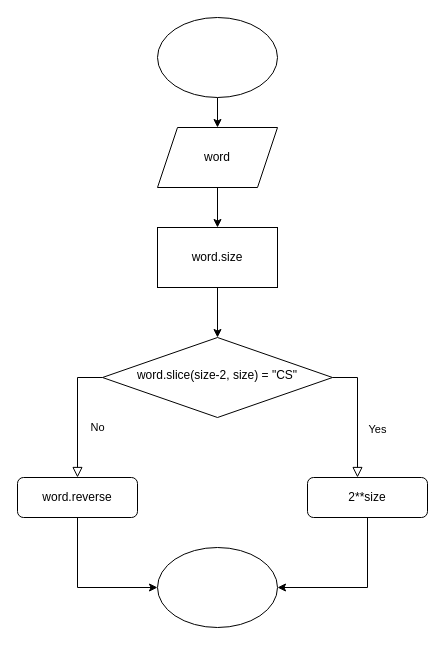
This 445x645 diagram has some shape labels left out. Here are the shapes that lost their labels. From the top down, the centre of each, then its label:
[217,57]: Start
[217,587]: End
